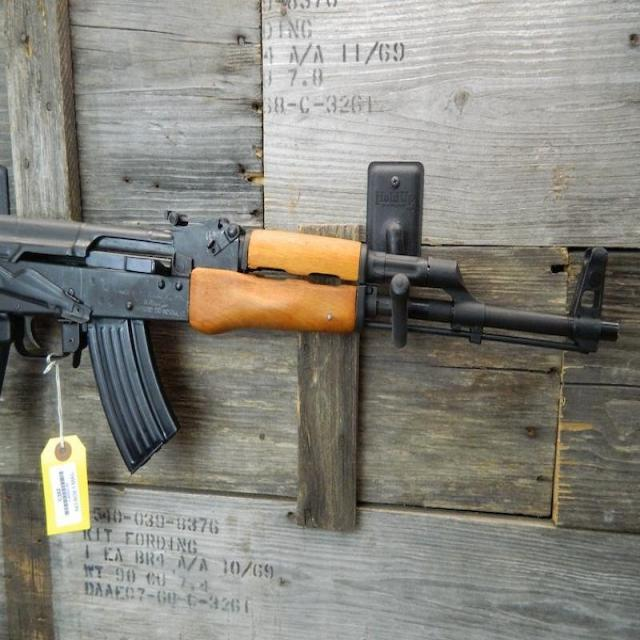gun: (1, 211, 617, 471)
